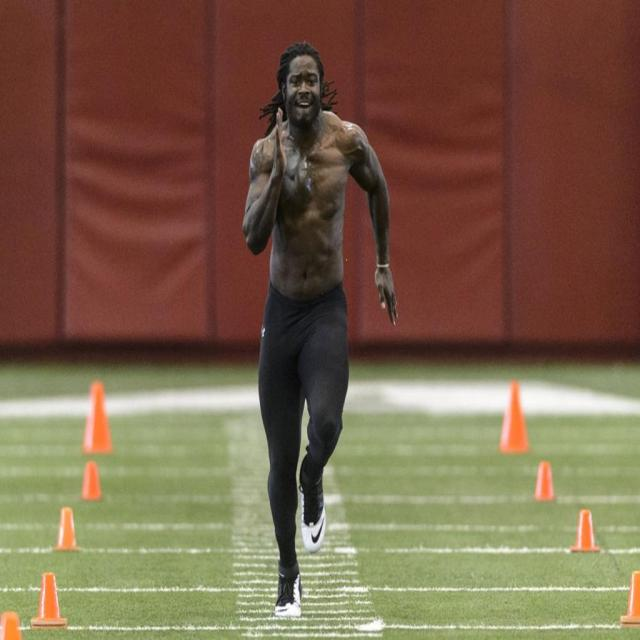Face: (283, 51, 327, 128)
